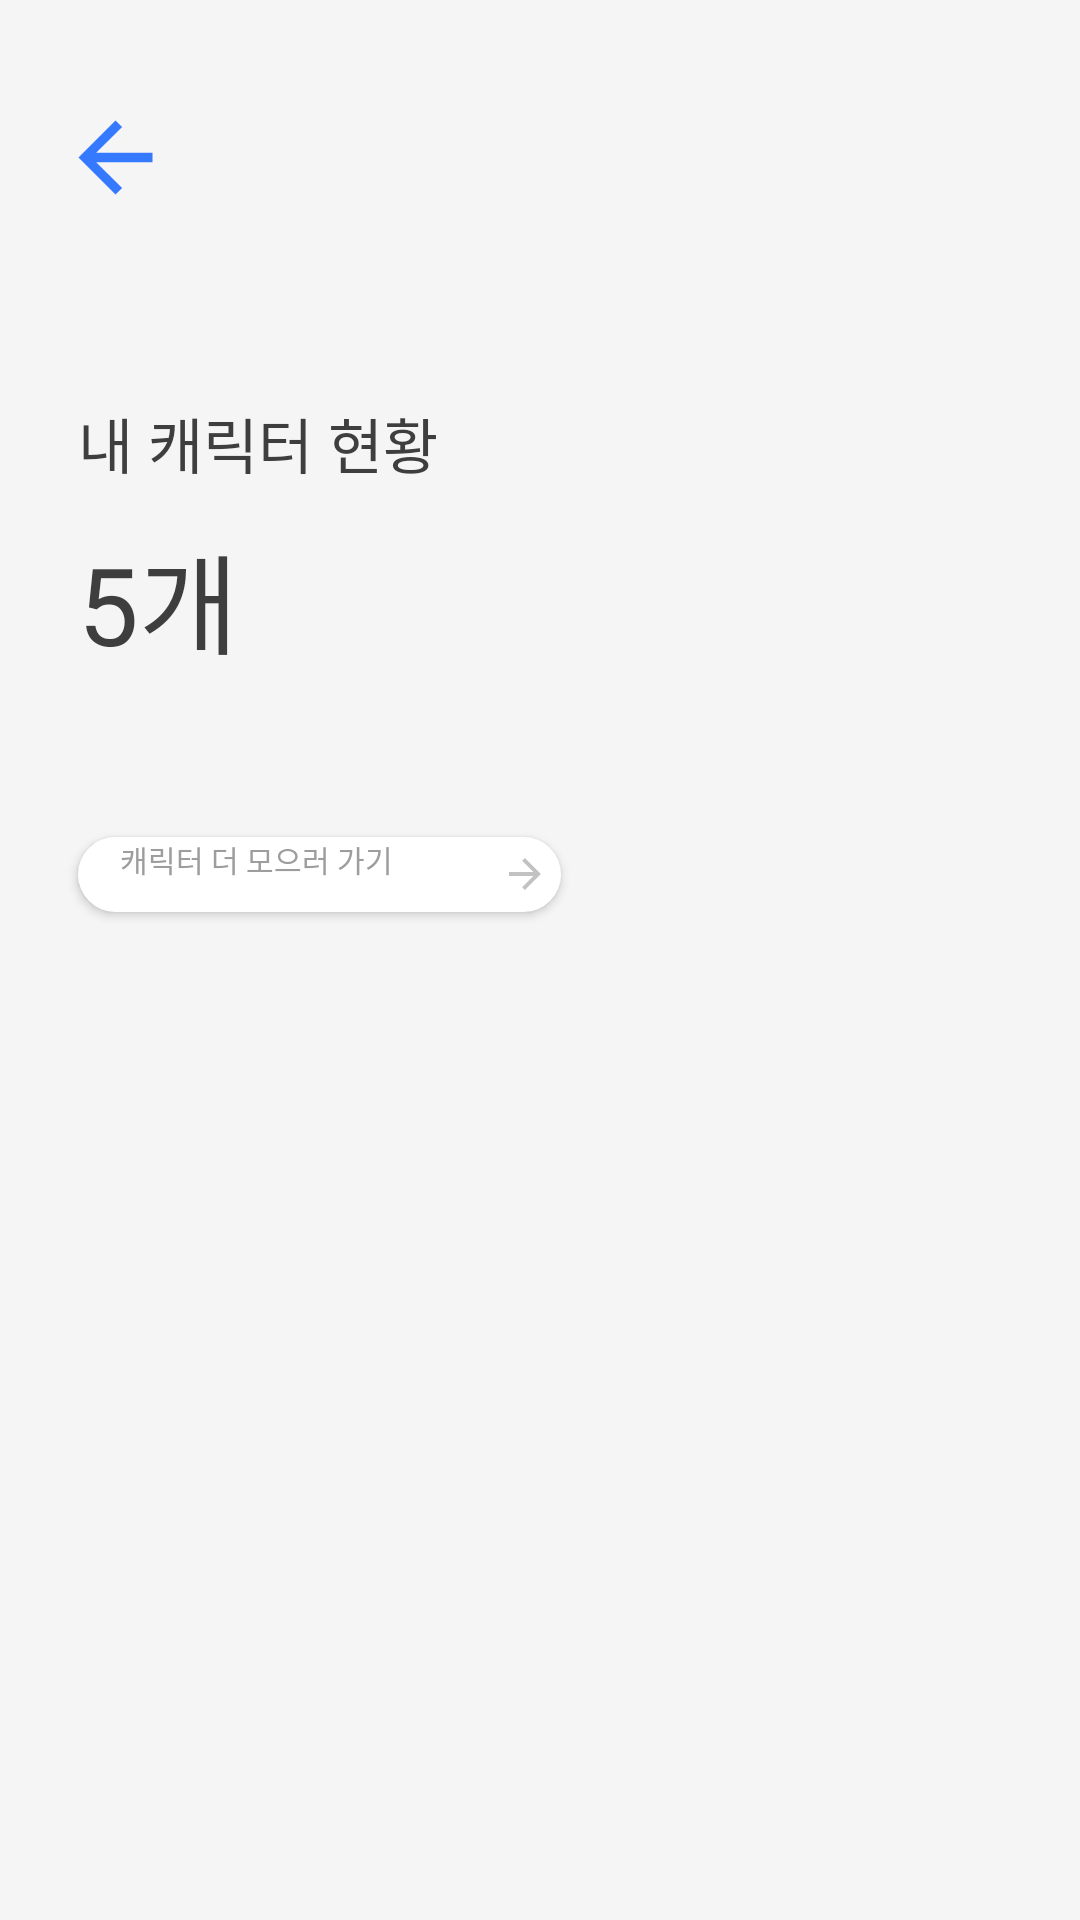

Screen size 1080px x 1920px. Icon name, then its box in pixels as (x1,y1,x2,y2):
캐릭터 수집 현황 뒤로가기: (78,120,153,195)
